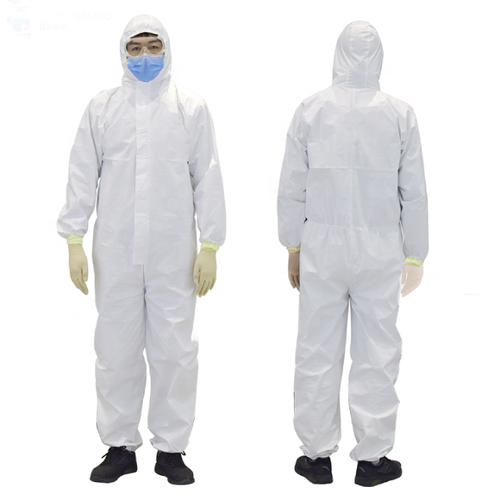Coverall: (58, 12, 229, 456), (273, 20, 432, 463)
Gloves: (64, 239, 91, 297), (281, 242, 306, 294), (193, 242, 217, 296), (400, 255, 425, 301)
Goggles: (122, 30, 168, 58)
with_mask: (126, 50, 166, 84)
